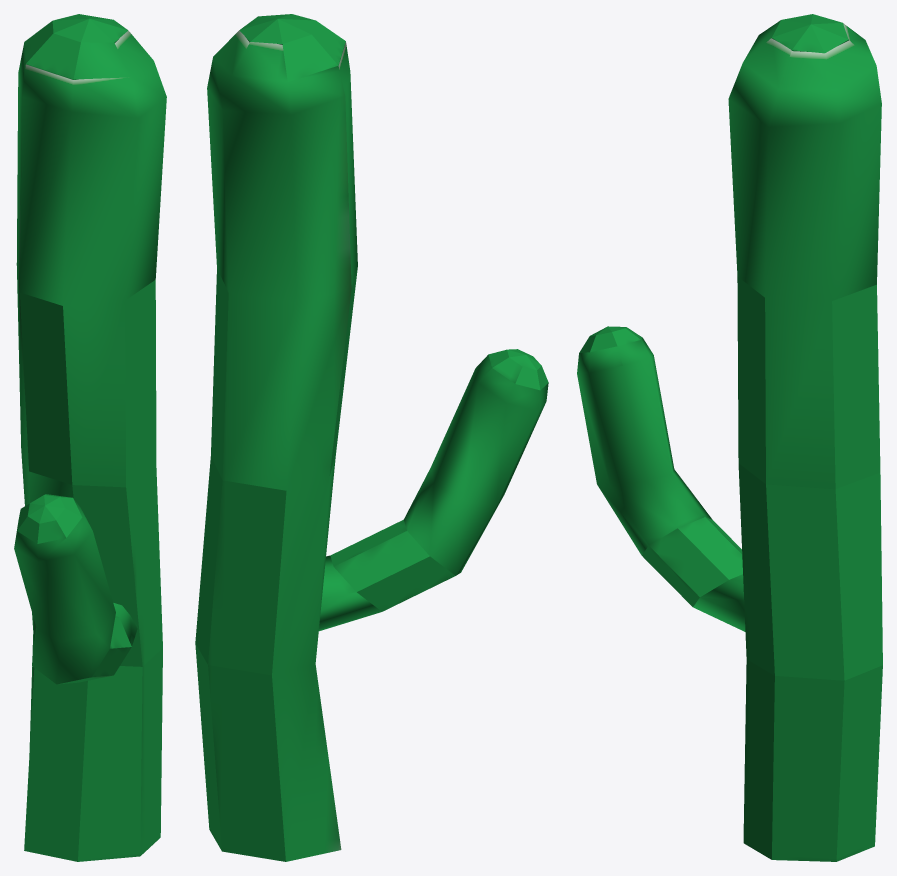
File: Cactus1.fbx
The picture shows the model from 3 angles, left to right: view 1: azimuth 30°, elevation 25°; view 2: azimuth 150°, elevation 25°; view 3: azimuth 270°, elevation 25°; orthographic projection.
Visible parts, largest first — view 1: Cactus1_LOD0; view 2: Cactus1_LOD0; view 3: Cactus1_LOD0.
Part boxes in pixels (box(x1,y1,x2,y2)): Cactus1_LOD0: box(14, 14, 166, 861); Cactus1_LOD0: box(195, 14, 548, 861); Cactus1_LOD0: box(577, 14, 882, 861).
Bounding box in the file's own units: 33.62 × 112 × 38.33.
